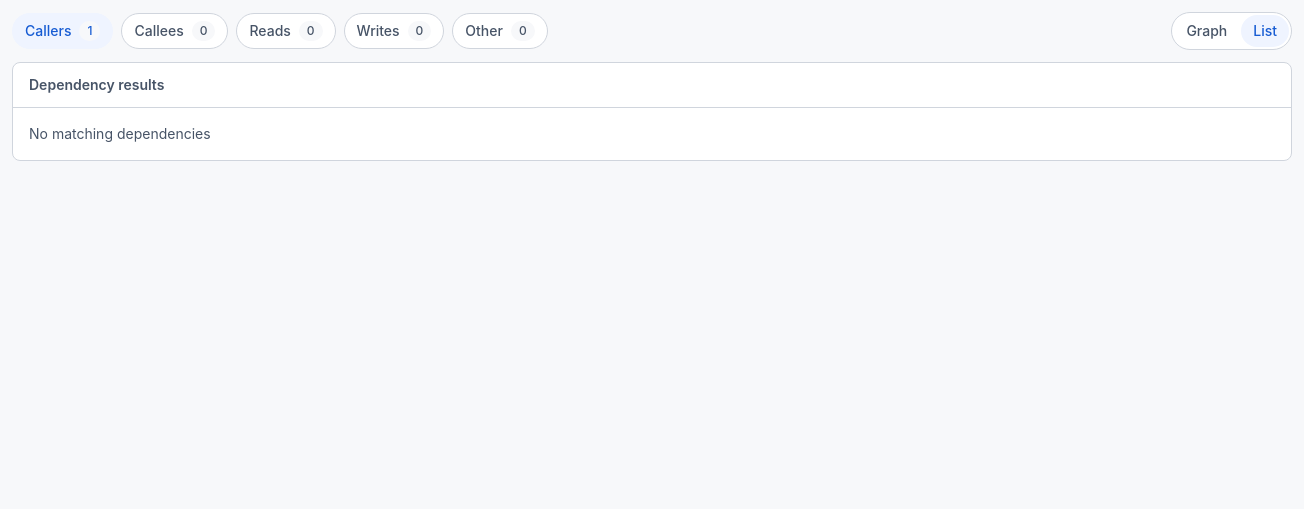
Scenario: DependenciesPanel graph mode › shows the shared error panel when a graph fetch fails
Click the button "Graph".
click(1207, 31)  # box [1174, 15, 1239, 47]
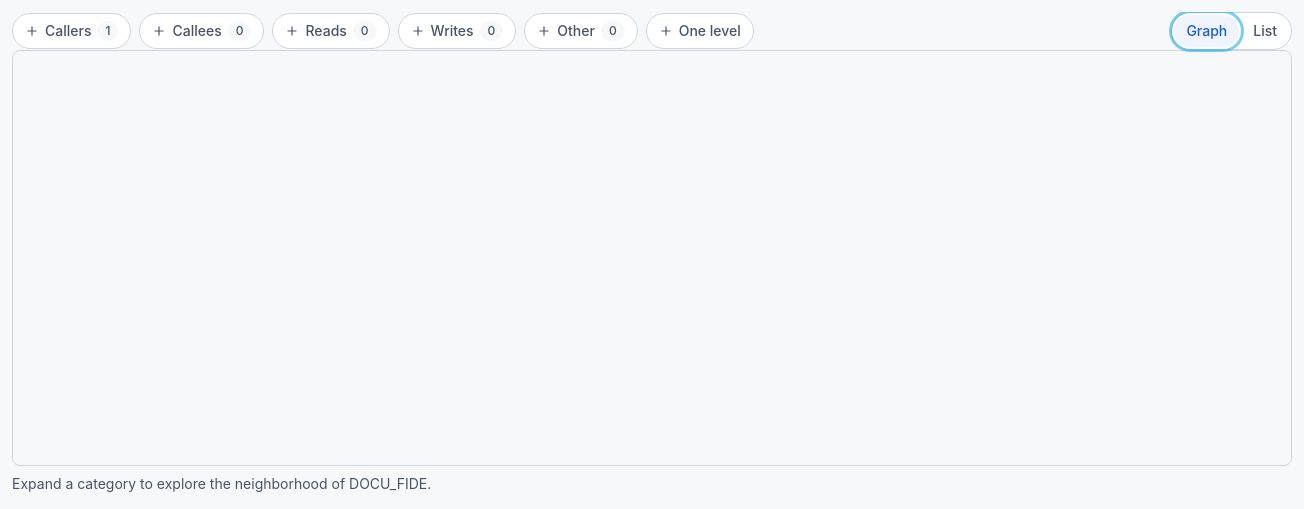
Click the button "Callees 0".
click(202, 31)  # box [139, 13, 264, 49]
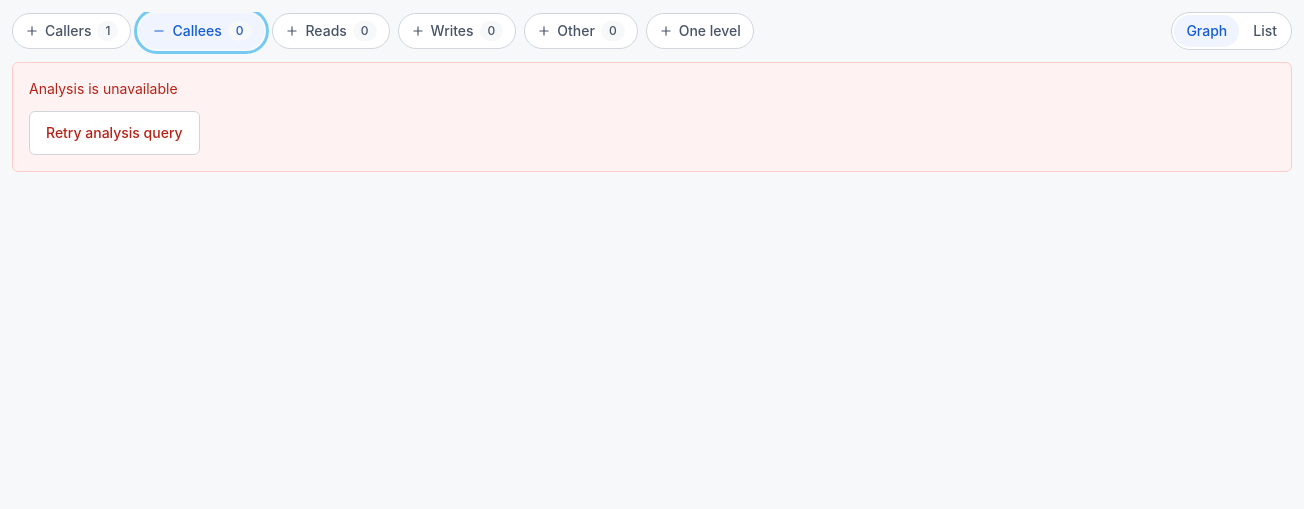
Check: the message shows "unavailable", box [29, 80, 178, 97]
